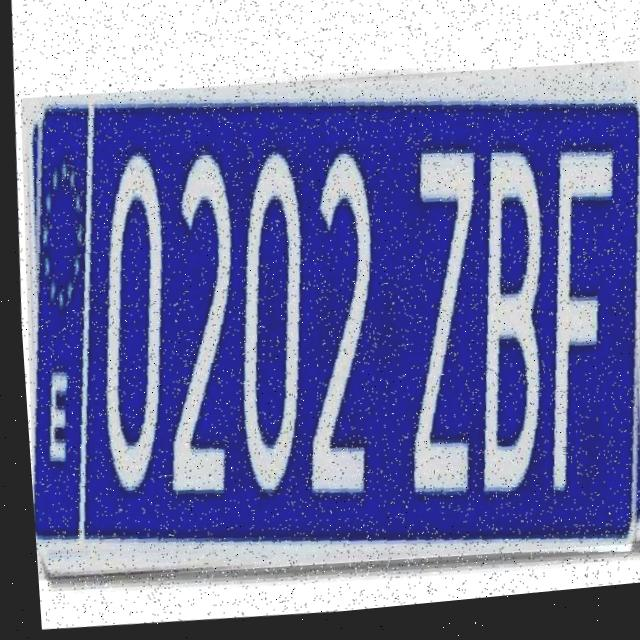LicensePlate: (5, 51, 640, 601)
